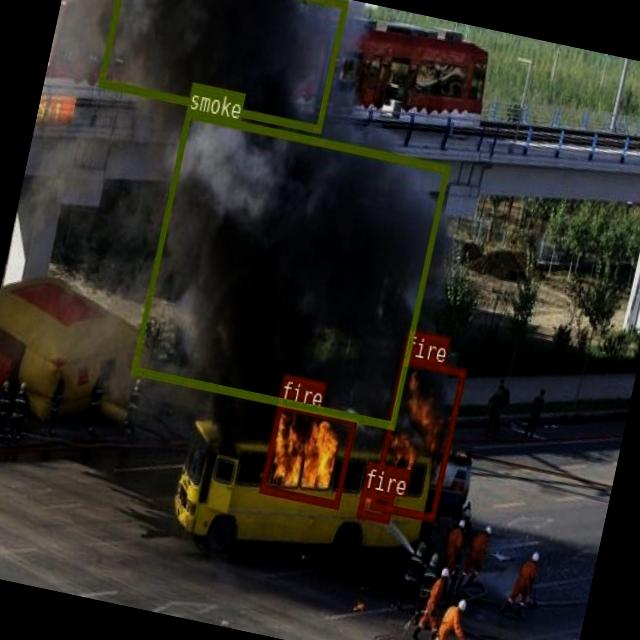fire: (369, 355, 465, 521), (258, 398, 356, 508), (356, 486, 392, 520)
smoke: (130, 109, 448, 427), (97, 0, 347, 131)
